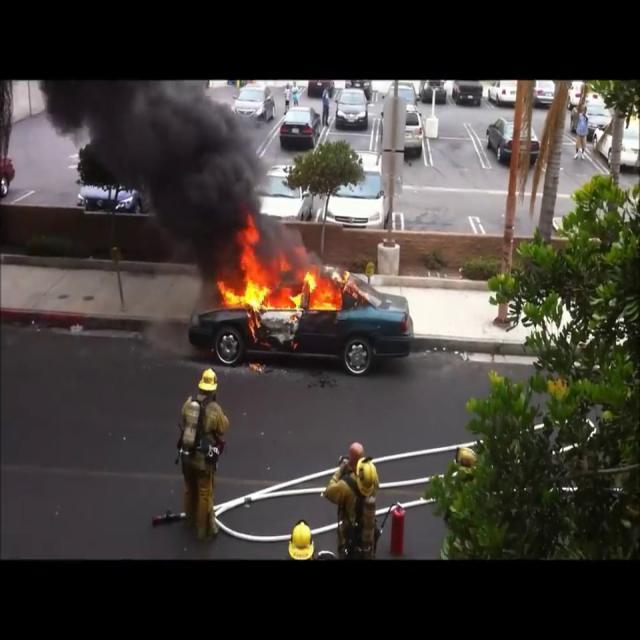Fire: (217, 230, 352, 322)
Smoke: (36, 81, 295, 273)
